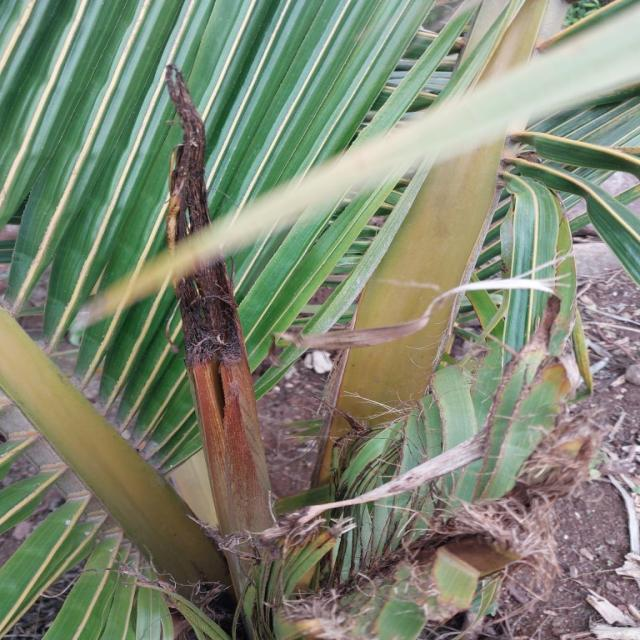bud rot: (177, 259, 273, 534), (167, 66, 210, 245)
